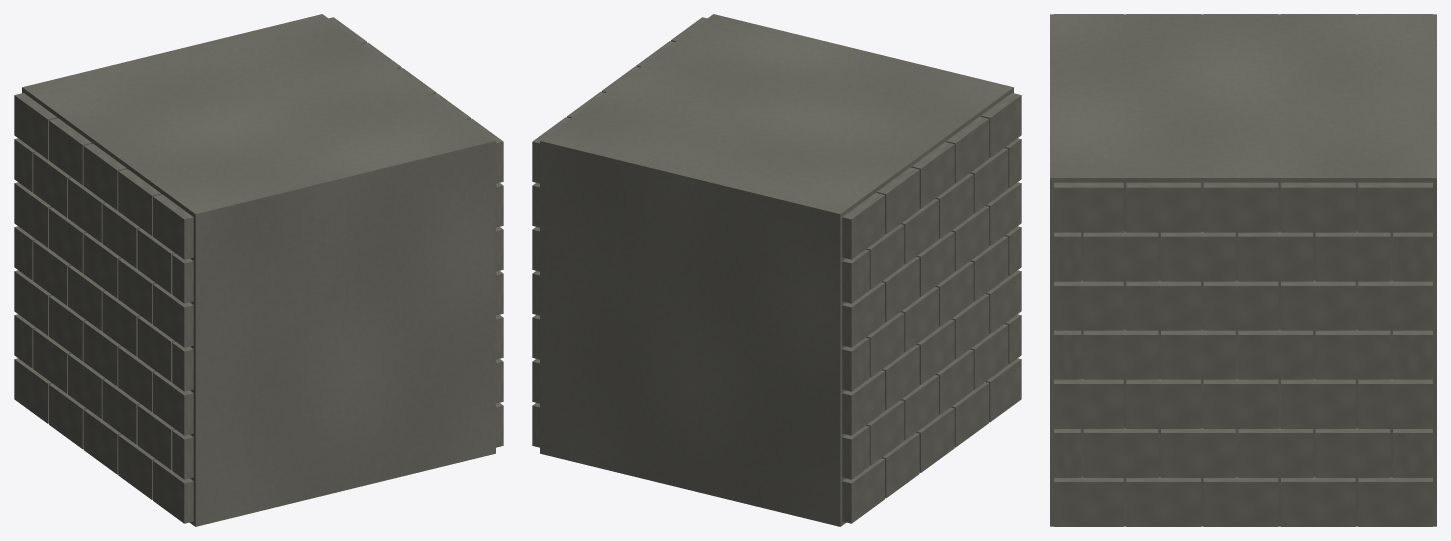
The model's file is stone_wall_x.glb.
3 views of the same model, side by side, from view 1: azimuth 30°, elevation 25°; view 2: azimuth 150°, elevation 25°; view 3: azimuth 270°, elevation 25° (orthographic). The views are drawn at different scales.
Parts seen in each view (by area): view 1: G3_stone_x; view 2: G3_stone_x; view 3: G3_stone_x.
Boxes of the visible parts, x1,y1,x2,y2 form: G3_stone_x: [14, 14, 503, 526]; G3_stone_x: [532, 14, 1021, 526]; G3_stone_x: [1050, 14, 1436, 526].
Bounding box in the file's own units: 1.06 × 0.995 × 1.
1 material, 1 textured.
